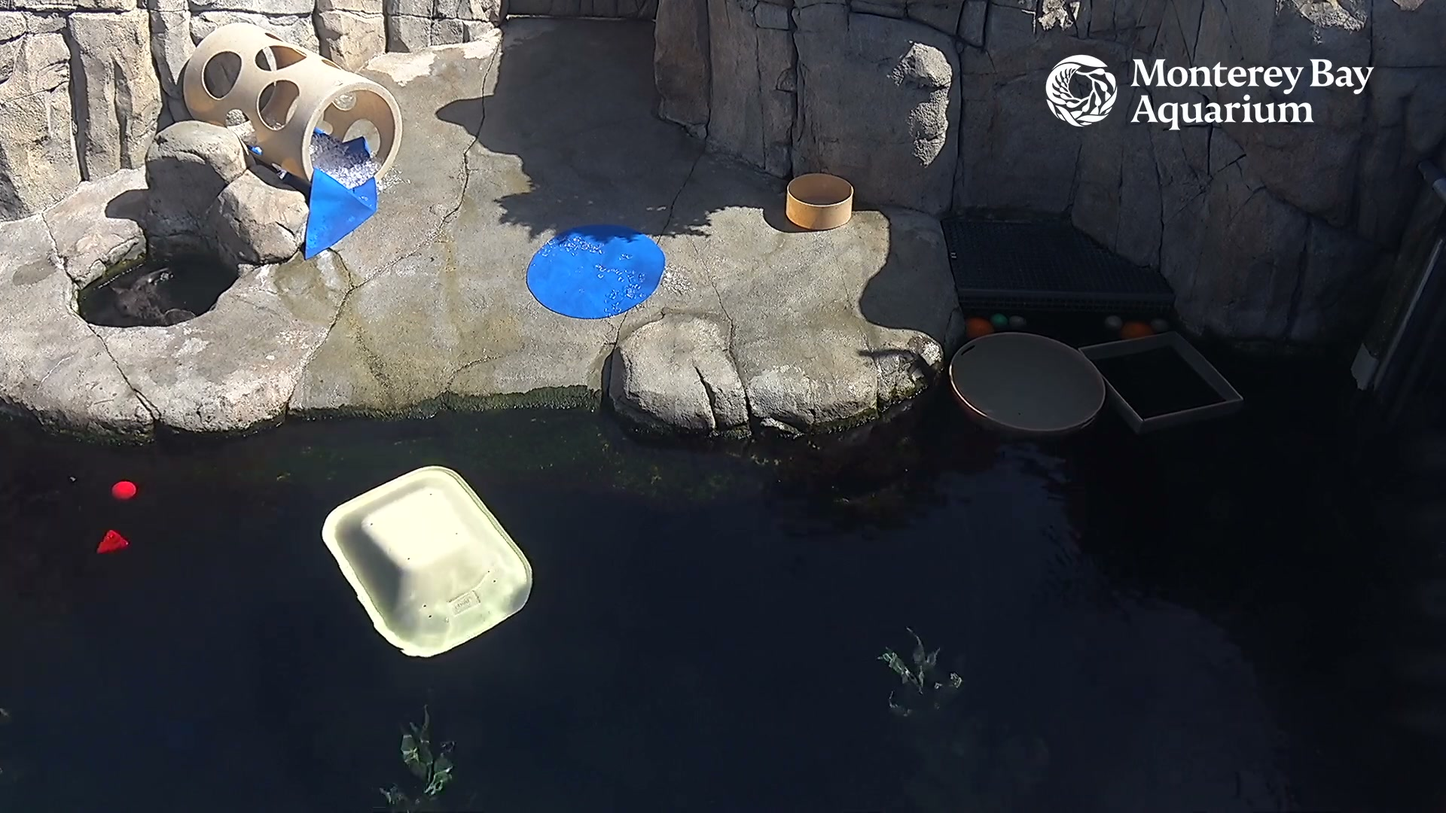Southern Sea Otter: (107, 254, 208, 339)
